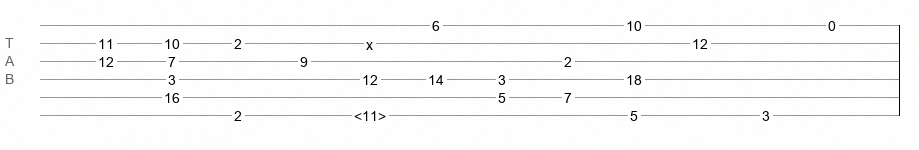0: (828, 18, 836, 28)
10: (164, 36, 180, 46), (626, 18, 642, 28)
11: (98, 36, 114, 46)
12: (98, 54, 114, 64), (362, 72, 378, 82), (692, 36, 708, 46)
14: (428, 72, 444, 82)
16: (164, 90, 180, 100)
18: (626, 72, 642, 82)
2: (234, 108, 242, 118), (234, 36, 242, 46), (564, 54, 572, 64)
3: (168, 72, 176, 82), (498, 72, 506, 82), (762, 108, 770, 118)
5: (498, 90, 506, 100), (630, 108, 638, 118)
6: (432, 18, 440, 28)
7: (168, 54, 176, 64), (564, 90, 572, 100)
9: (300, 54, 308, 64)
harmonic: (354, 108, 386, 118)
x: (366, 37, 373, 45)
